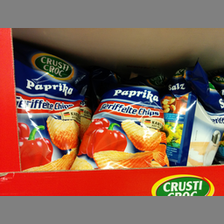chips: (11, 37, 84, 170), (71, 78, 170, 167), (164, 61, 224, 166)
